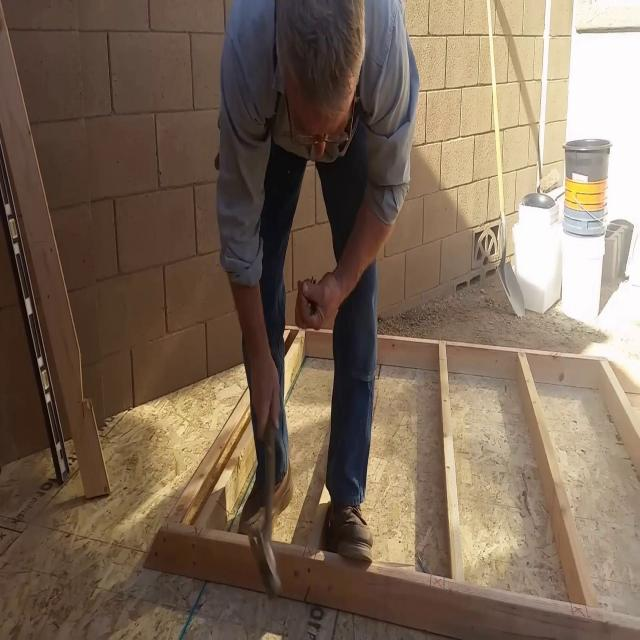hammer: (247, 418, 282, 600)
